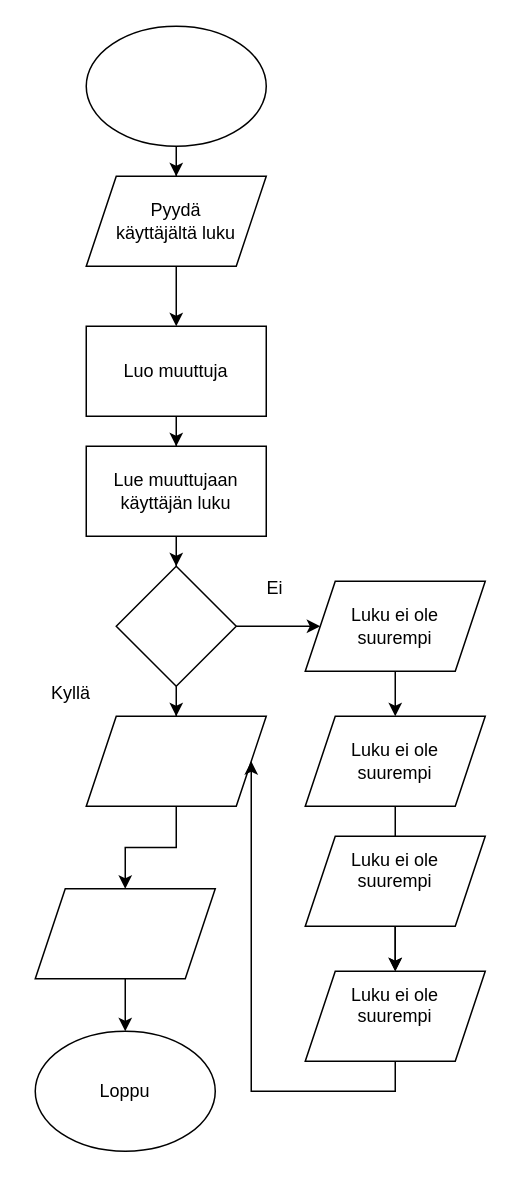
Some shapes in this 512 by 1178 pixel diagram are drawn without their labels. The shapes that lost their labels are listed below. From the top down, each one's box as (x1, y1, x2, y2) in pixels, then its label:
(85, 25, 266, 146): Aloitus HTML-sivu
(115, 565, 236, 686): onko muuttuja suurempi kuin
(85, 715, 266, 806): Luku on suurempi
(34, 887, 215, 979): Luku on suurin
